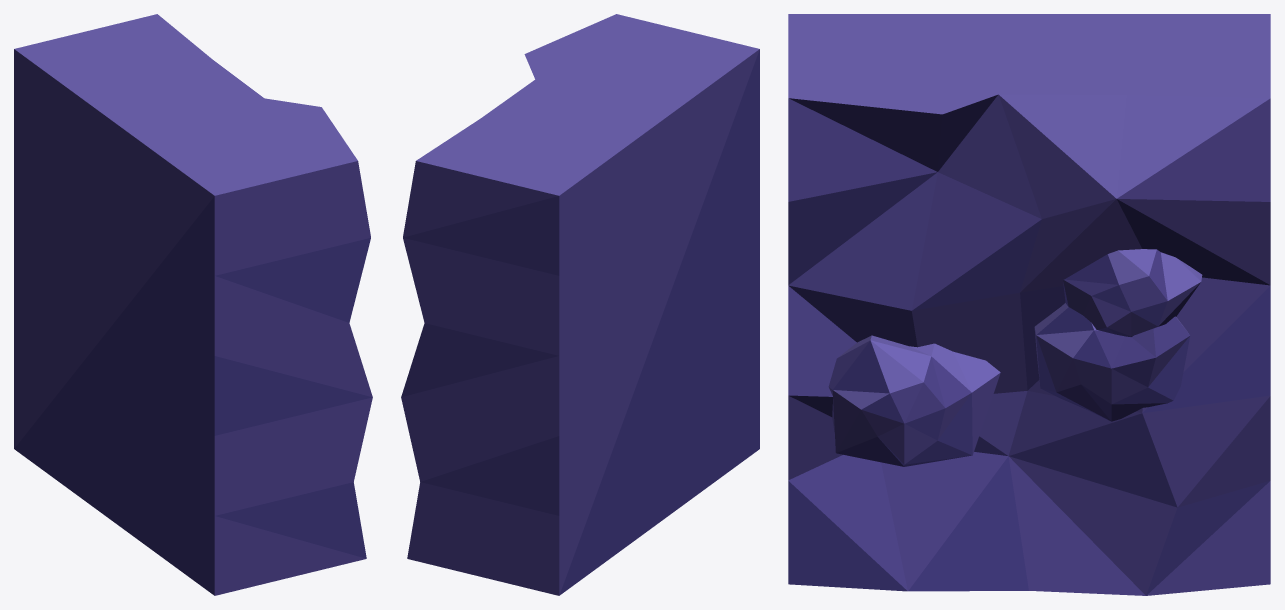
Rendered from Mine_Wall_Rock_A.obj.
3 views of the same model, side by side, from view 1: azimuth 30°, elevation 25°; view 2: azimuth 150°, elevation 25°; view 3: azimuth 270°, elevation 25° (orthographic). The views are drawn at different scales.
Parts seen in each view (by area): view 1: Mine_Wall_Rock_A; view 2: Mine_Wall_Rock_A; view 3: Mine_Wall_Rock_A.
Boxes of the visible parts, box(x1,y1,x2,y2) form: Mine_Wall_Rock_A: box(14, 14, 372, 595); Mine_Wall_Rock_A: box(401, 14, 759, 595); Mine_Wall_Rock_A: box(788, 14, 1270, 595).
Size of the model in its own units: 2.1 by 4.4 by 4.
